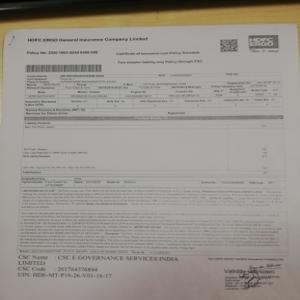image: (247, 33, 280, 50)
table: (23, 113, 283, 178), (25, 71, 283, 114)
text: (19, 211, 286, 248), (20, 188, 283, 212), (15, 252, 181, 283), (25, 32, 149, 46)
